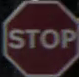Stop: (3, 4, 74, 72)
